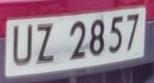2: (66, 17, 89, 66)
5: (105, 12, 125, 55)
7: (124, 9, 140, 56)
8: (88, 15, 108, 60)
U: (12, 21, 35, 71)
Z: (35, 19, 58, 69)
